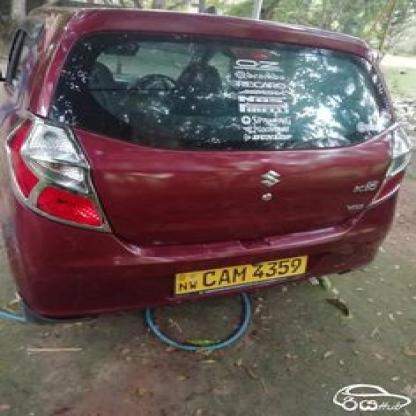car back: (2, 6, 416, 316)
number plate: (177, 254, 303, 296)
